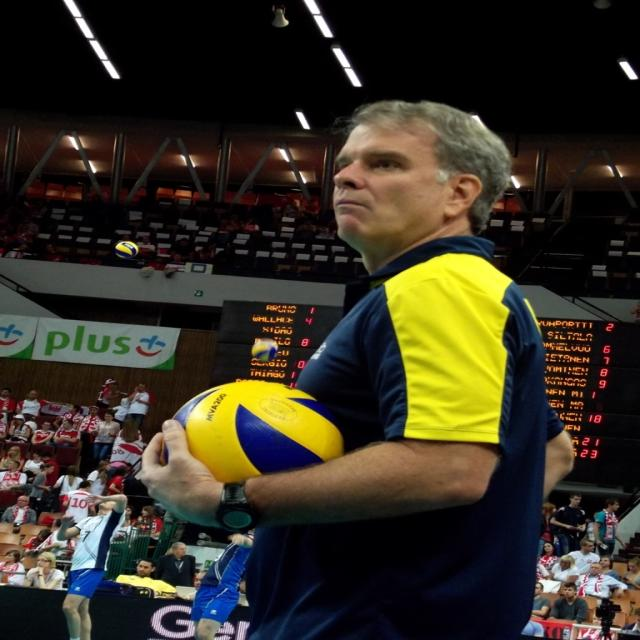Ball: (162, 382, 345, 481), (252, 338, 278, 364), (115, 240, 140, 262)
